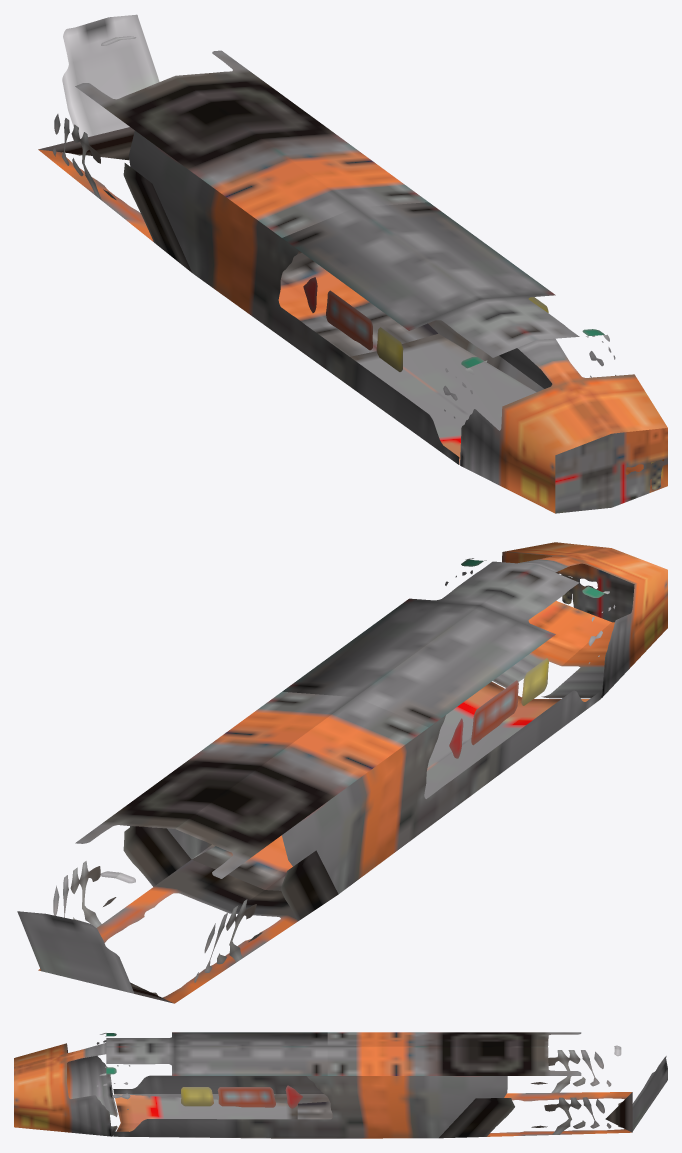
File: LOD1-UVFlip.obj
3 views of the same model, one above another, from view 1: azimuth 30°, elevation 25°; view 2: azimuth 150°, elevation 25°; view 3: azimuth 270°, elevation 25° (orthographic). The views are drawn at different scales.
Visible parts, largest first — view 1: PulsarGunUV; view 2: PulsarGunUV; view 3: PulsarGunUV.
Boxes of the visible parts, x1=… form: PulsarGunUV: x1=38, y1=14, x2=667, y2=513; PulsarGunUV: x1=17, y1=542, x2=667, y2=1003; PulsarGunUV: x1=14, y1=1032, x2=667, y2=1138.
Size of the model in its own units: 3.38 by 2.5 by 19.1.
